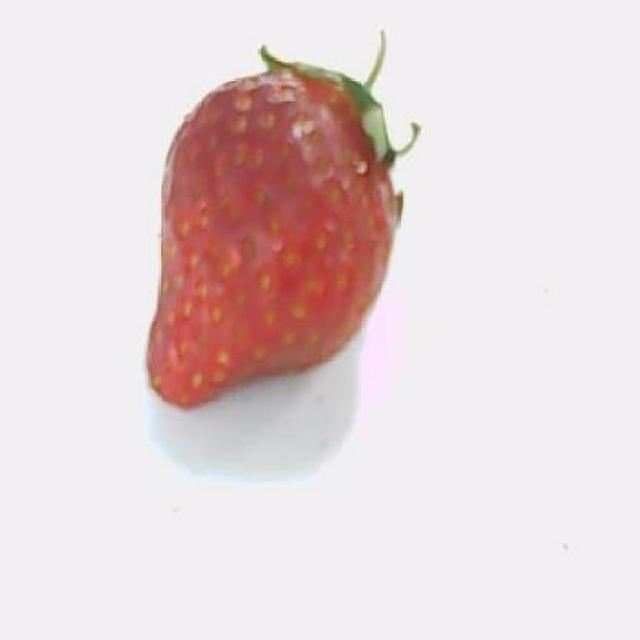strawberry: (148, 35, 419, 407)
